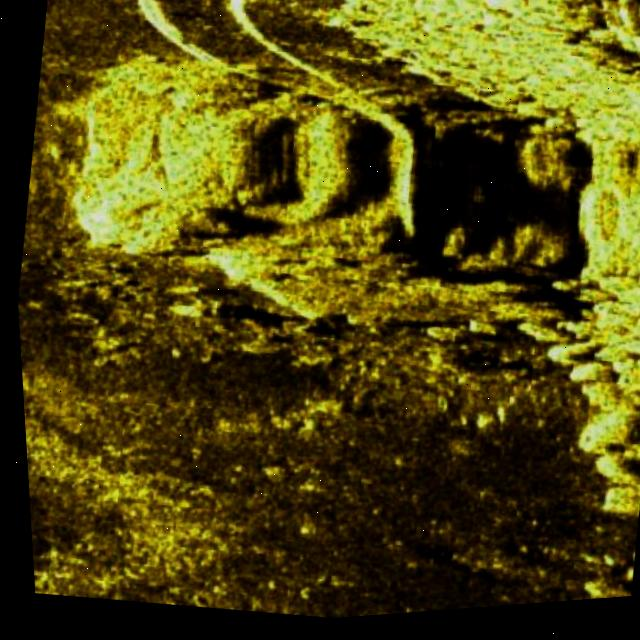bedrock group: (20, 0, 640, 552)
